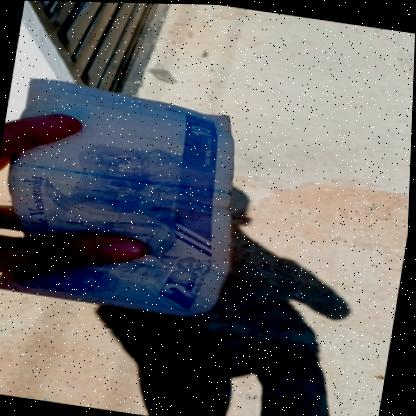ten-back-vef: (0, 76, 251, 323)
